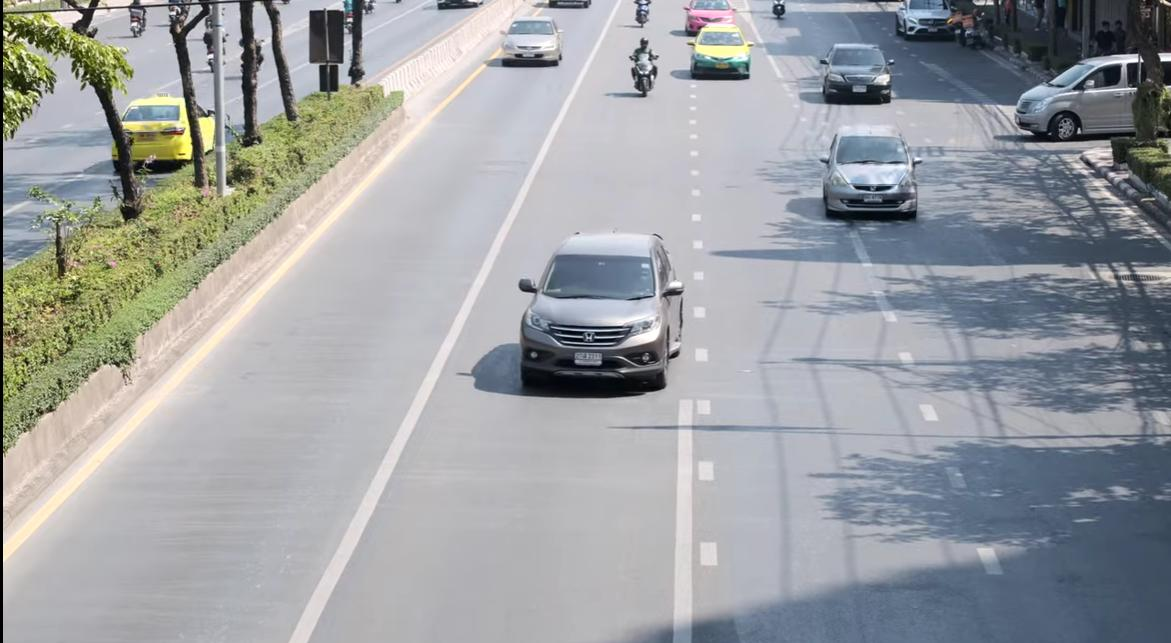car: (121, 89, 241, 177)
motorcycle: (605, 19, 708, 134), (120, 0, 171, 44)
van: (1006, 54, 1171, 180)
